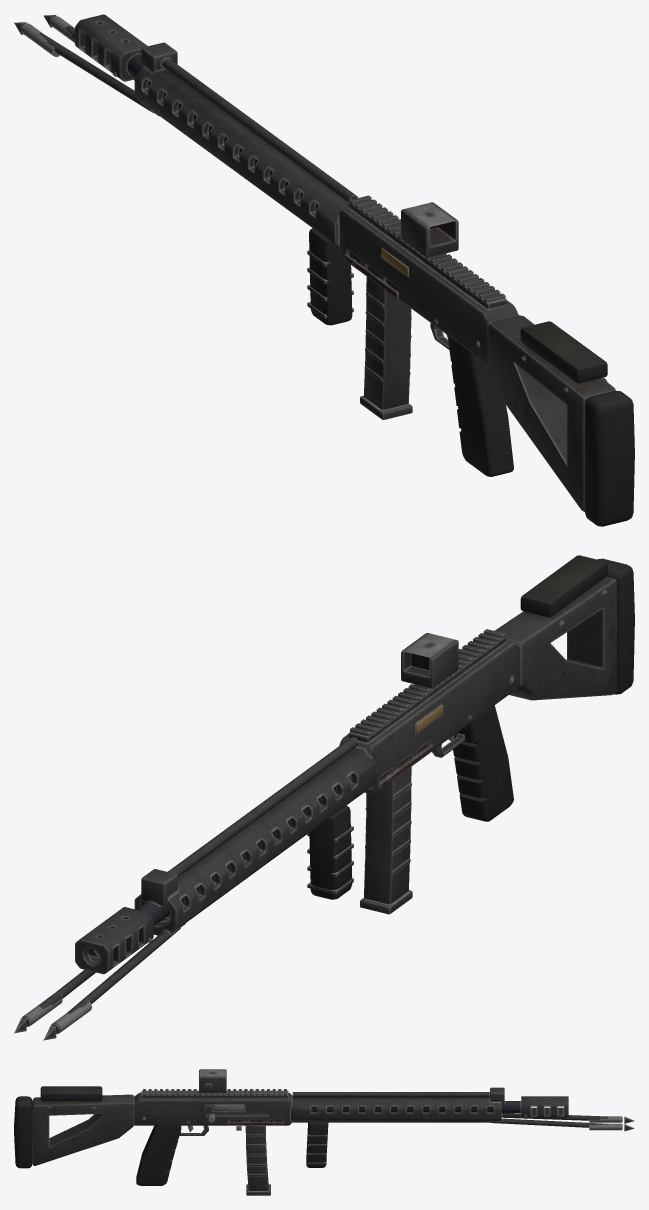
File: konrad_auto_heavy_round_rifle.glb
The picture shows the model from 3 angles, top to bottom: view 1: azimuth 30°, elevation 25°; view 2: azimuth 150°, elevation 25°; view 3: azimuth 270°, elevation 25°; orthographic projection. The views are drawn at different scales.
Visible parts, largest first — view 1: konrad_auto_heavy_round_rifle; view 2: konrad_auto_heavy_round_rifle; view 3: konrad_auto_heavy_round_rifle.
Boxes of the visible parts, left/top/right/bottom form: konrad_auto_heavy_round_rifle: left=14, top=14, right=634, bottom=526; konrad_auto_heavy_round_rifle: left=14, top=555, right=634, bottom=1040; konrad_auto_heavy_round_rifle: left=14, top=1069, right=634, bottom=1195.
Bounding box in the file's own units: 0.078 × 0.3055 × 1.45.
1 material, 1 textured.
